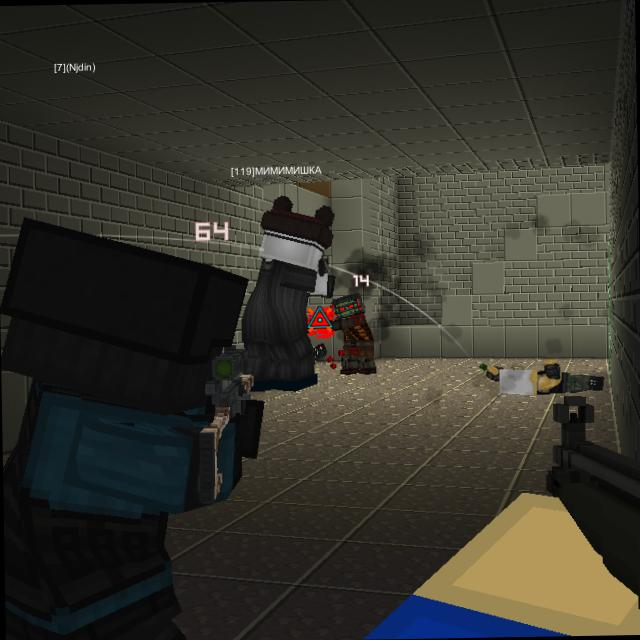enemy: (326, 291, 380, 376)
